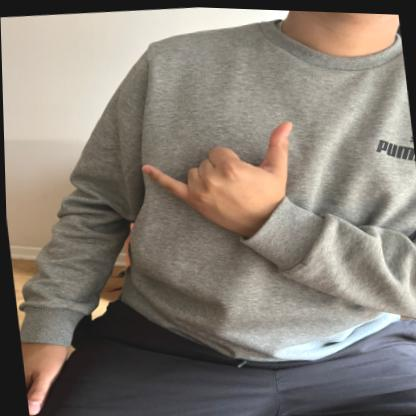Y: (136, 104, 307, 241)
